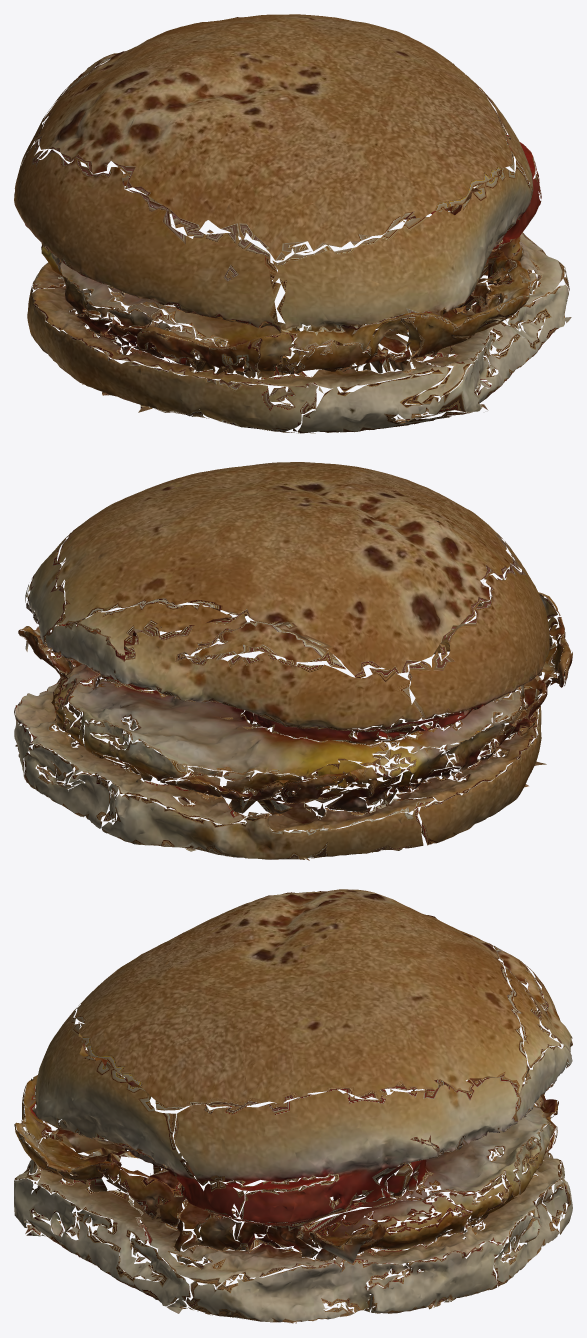
File: hamburguesa-completa.glb
3 renders of one model, top to bottom at view 1: azimuth 30°, elevation 25°; view 2: azimuth 150°, elevation 25°; view 3: azimuth 270°, elevation 25°, orthographic.
Parts seen in each view (by area): view 1: geometry_0; view 2: geometry_0; view 3: geometry_0.
Boxes of the visible parts, left/top/right/bottom form: geometry_0: left=14, top=14, right=571, bottom=433; geometry_0: left=14, top=462, right=572, bottom=860; geometry_0: left=14, top=889, right=572, bottom=1323.
Size of the model in its own units: 0.2425 by 0.1308 by 0.2477.
Materials: 1 (1 with a texture image).
